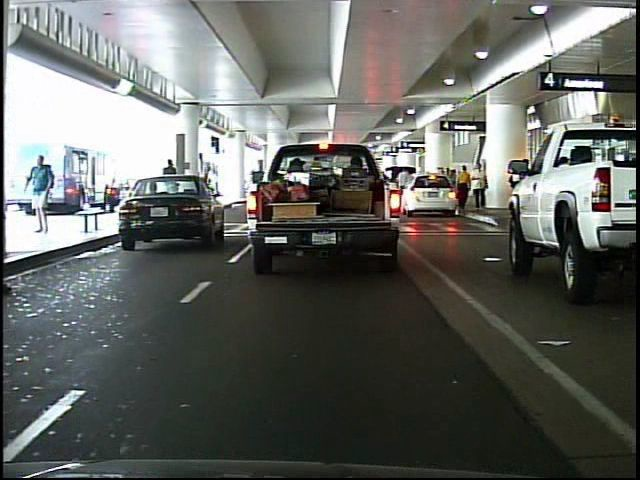person: (28, 154, 65, 237), (159, 153, 184, 218), (449, 160, 472, 220)
